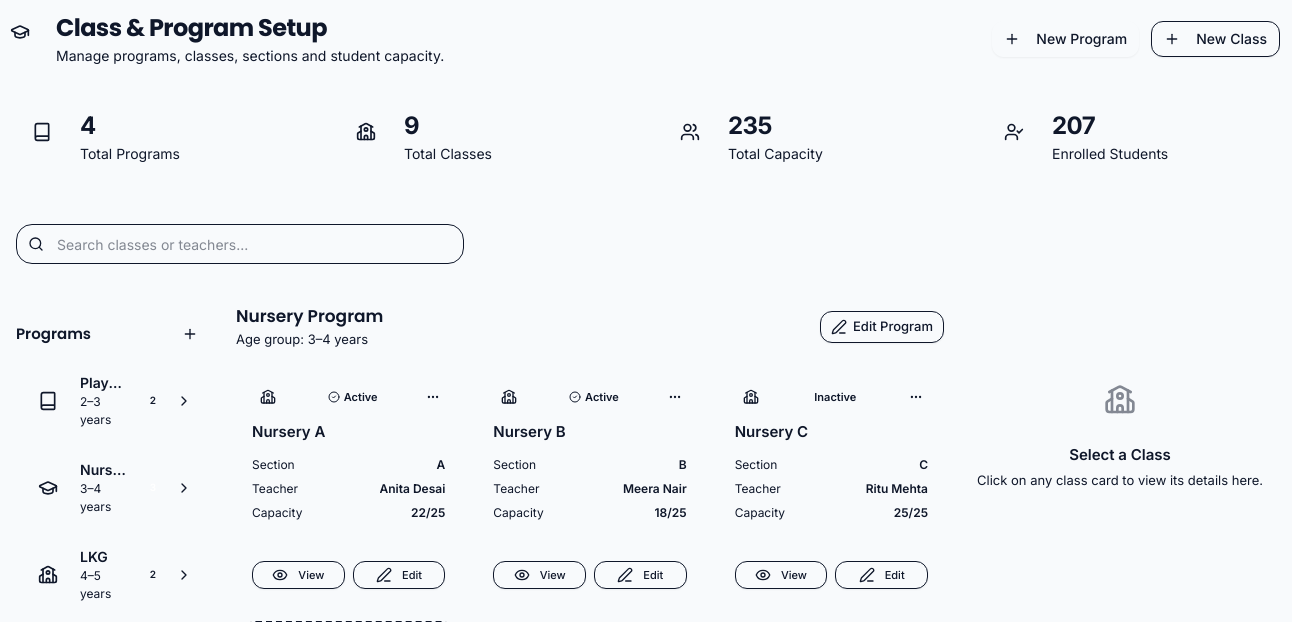
Test: SetupClassesPage › returns to empty state when close button is clicked
Select a class
Click the text "Nursery A": click(289, 432) left=252, top=422, right=325, bottom=441
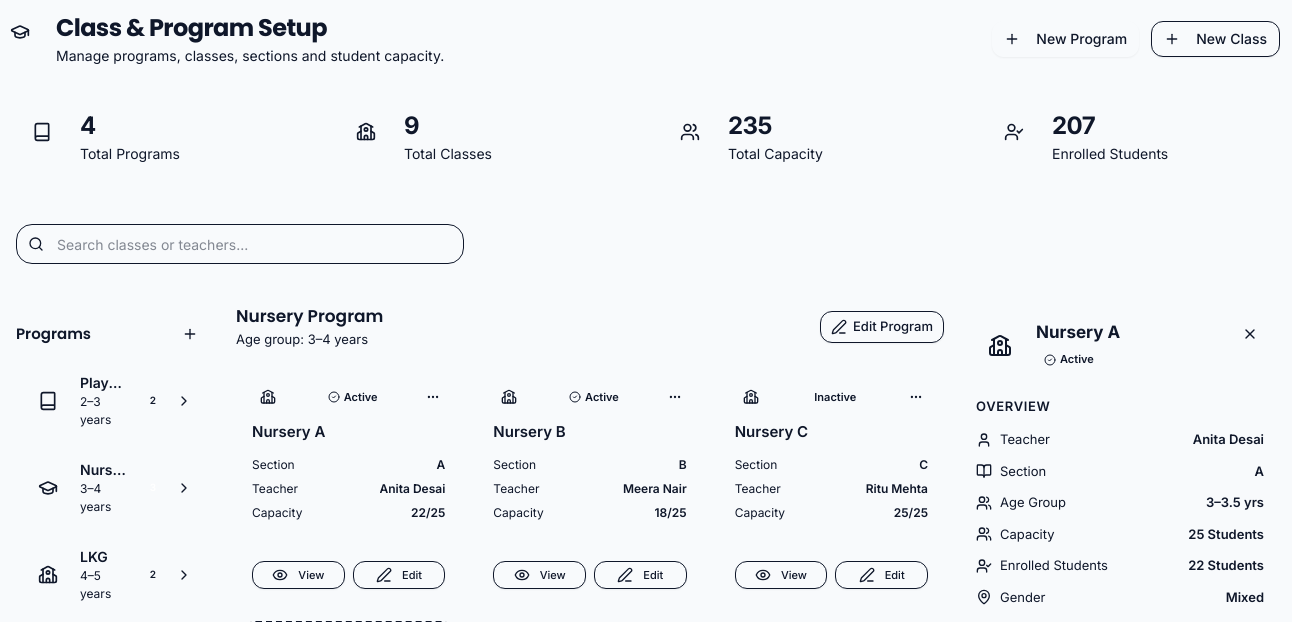
Expected: the text "Overview" is shown, left=976, top=398, right=1050, bottom=414
Click close
Click the button named "Close details": click(1250, 334) left=1236, top=320, right=1264, bottom=348
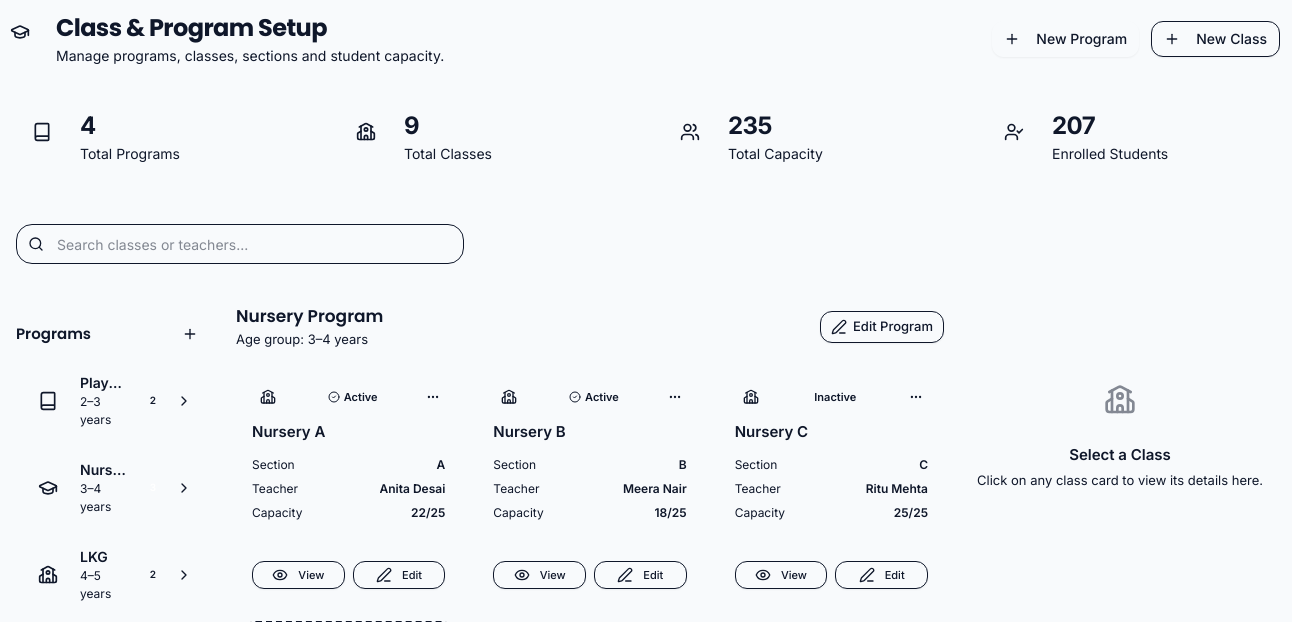
Expected: the text "Select a Class" is shown, left=1069, top=444, right=1171, bottom=466
